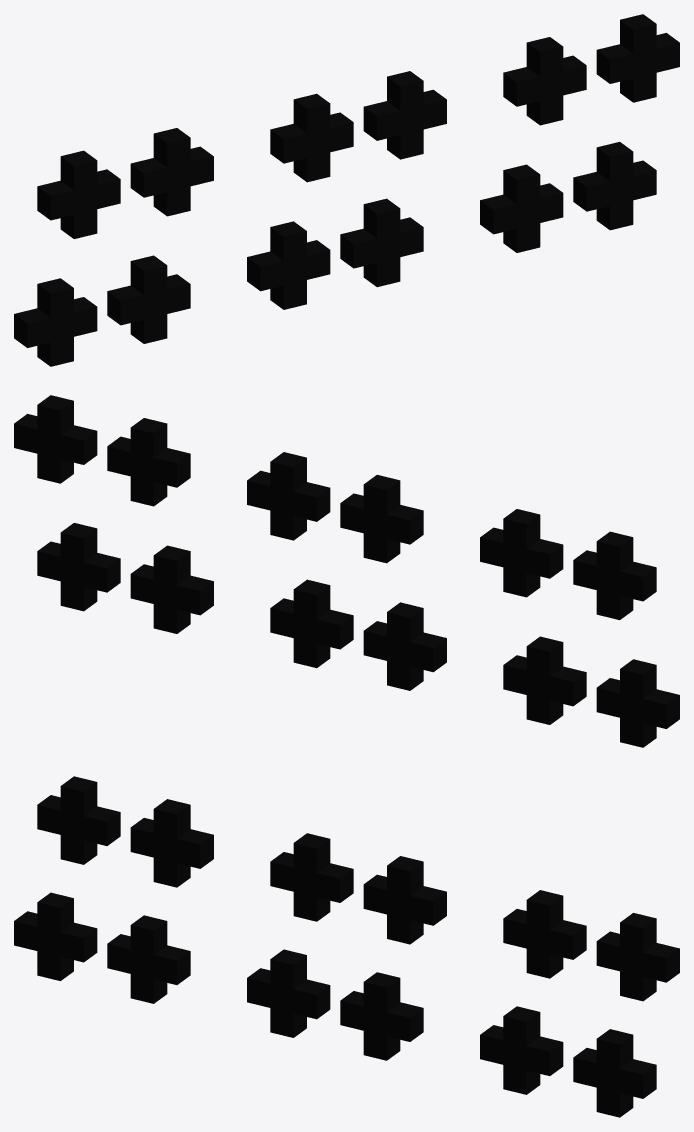
File: Trap_Wall_Large_Deactivated.glb
3 views of the same model, one above another, from view 1: azimuth 30°, elevation 25°; view 2: azimuth 150°, elevation 25°; view 3: azimuth 330°, elevation 25° (orthographic).
Visible parts, largest first — view 1: Trap_Wall_Large_Deactivated; view 2: Trap_Wall_Large_Deactivated; view 3: Trap_Wall_Large_Deactivated.
Boxes of the visible parts, x1=… form: Trap_Wall_Large_Deactivated: x1=14, y1=14, x2=679, y2=366; Trap_Wall_Large_Deactivated: x1=14, y1=395, x2=679, y2=747; Trap_Wall_Large_Deactivated: x1=14, y1=776, x2=679, y2=1117.
Size of the model in its own units: 2.8 by 0.8 by 0.1.
Materials: 1 (1 with a texture image).
